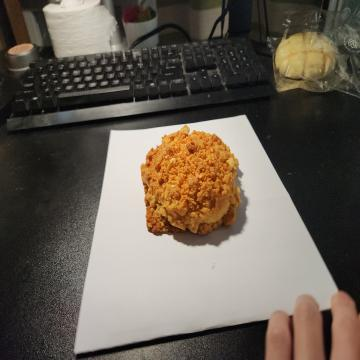soboru_bread: (134, 124, 242, 237)
